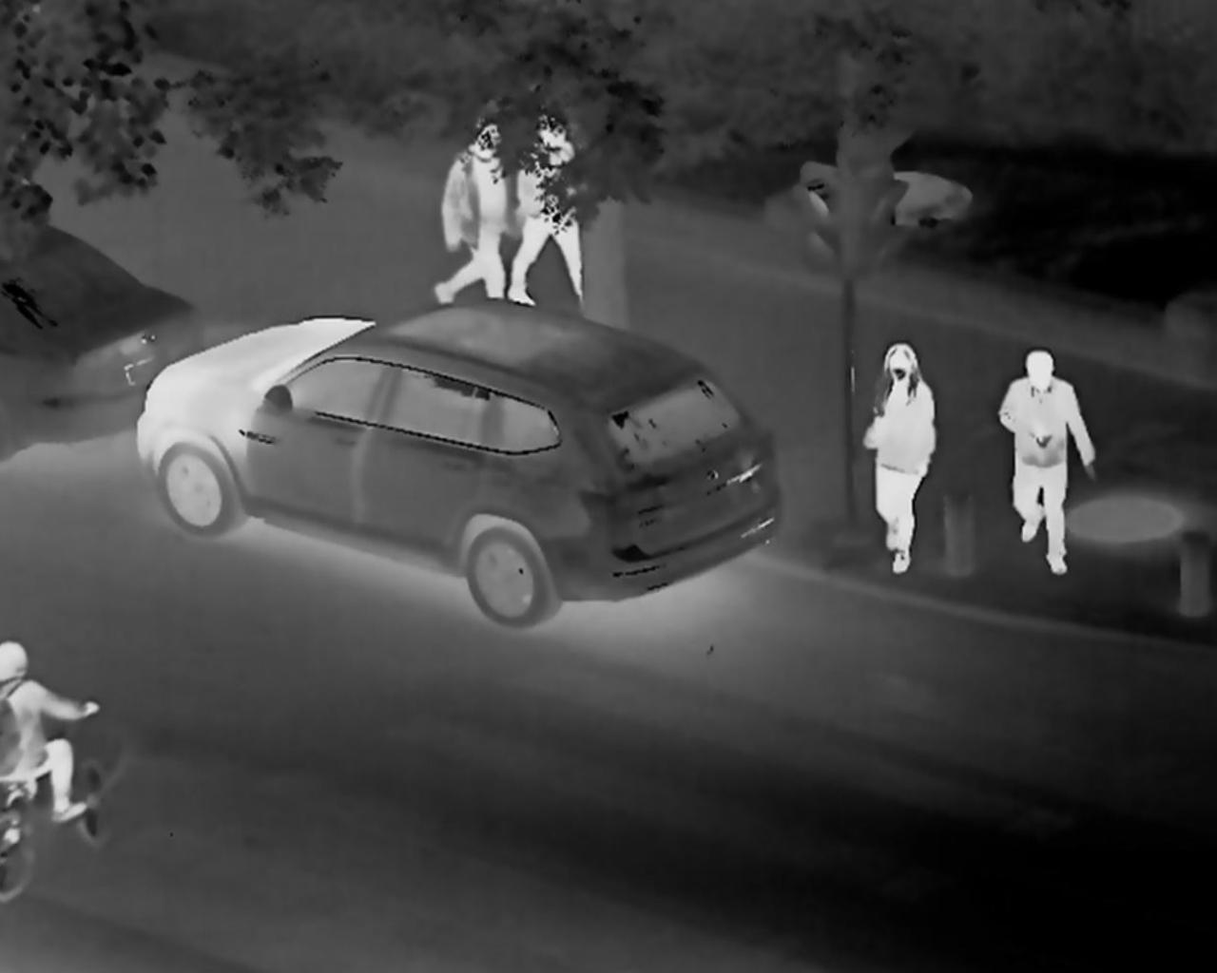person: (995, 347, 1095, 578), (861, 338, 937, 578), (506, 112, 586, 303), (433, 112, 507, 301)
